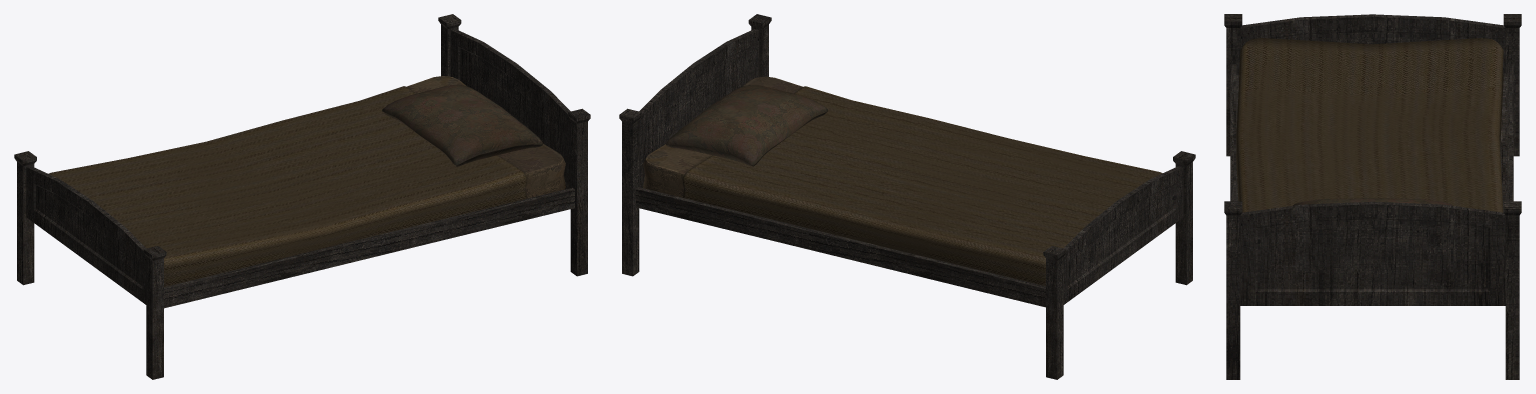
Rendered from bed_5.glb.
3 renders of one model, left to right at view 1: azimuth 30°, elevation 25°; view 2: azimuth 150°, elevation 25°; view 3: azimuth 270°, elevation 25°, orthographic. The views are drawn at different scales.
Parts seen in each view (by area): view 1: bed_5; view 2: bed_5; view 3: bed_5.
Boxes of the visible parts, <box> form: bed_5: <box>14,14,590,379</box>; bed_5: <box>619,14,1195,379</box>; bed_5: <box>1224,14,1521,379</box>.
Size of the model in its own units: 2.74 by 0.9621 by 1.49.
3 materials, 3 textured.
